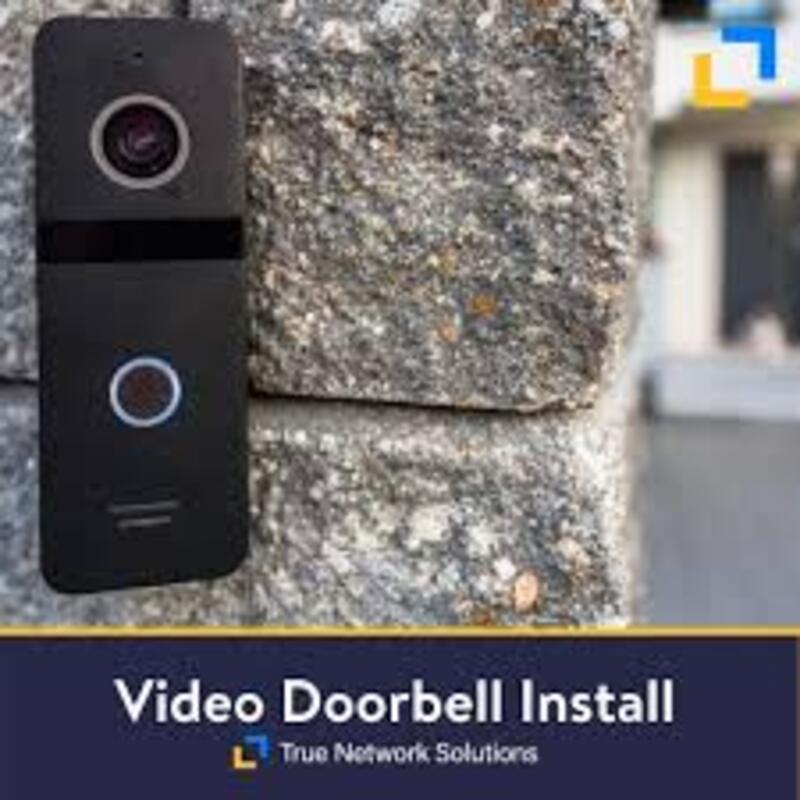doorbell: (26, 15, 260, 599)
